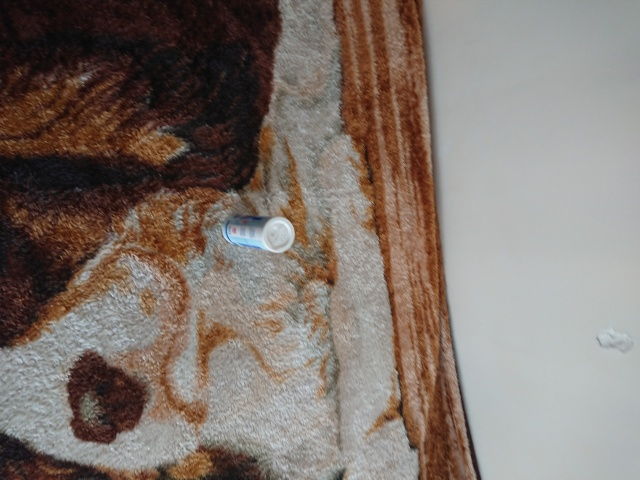Solana Pag Fine Sea Salt 250g: (219, 213, 298, 255)
